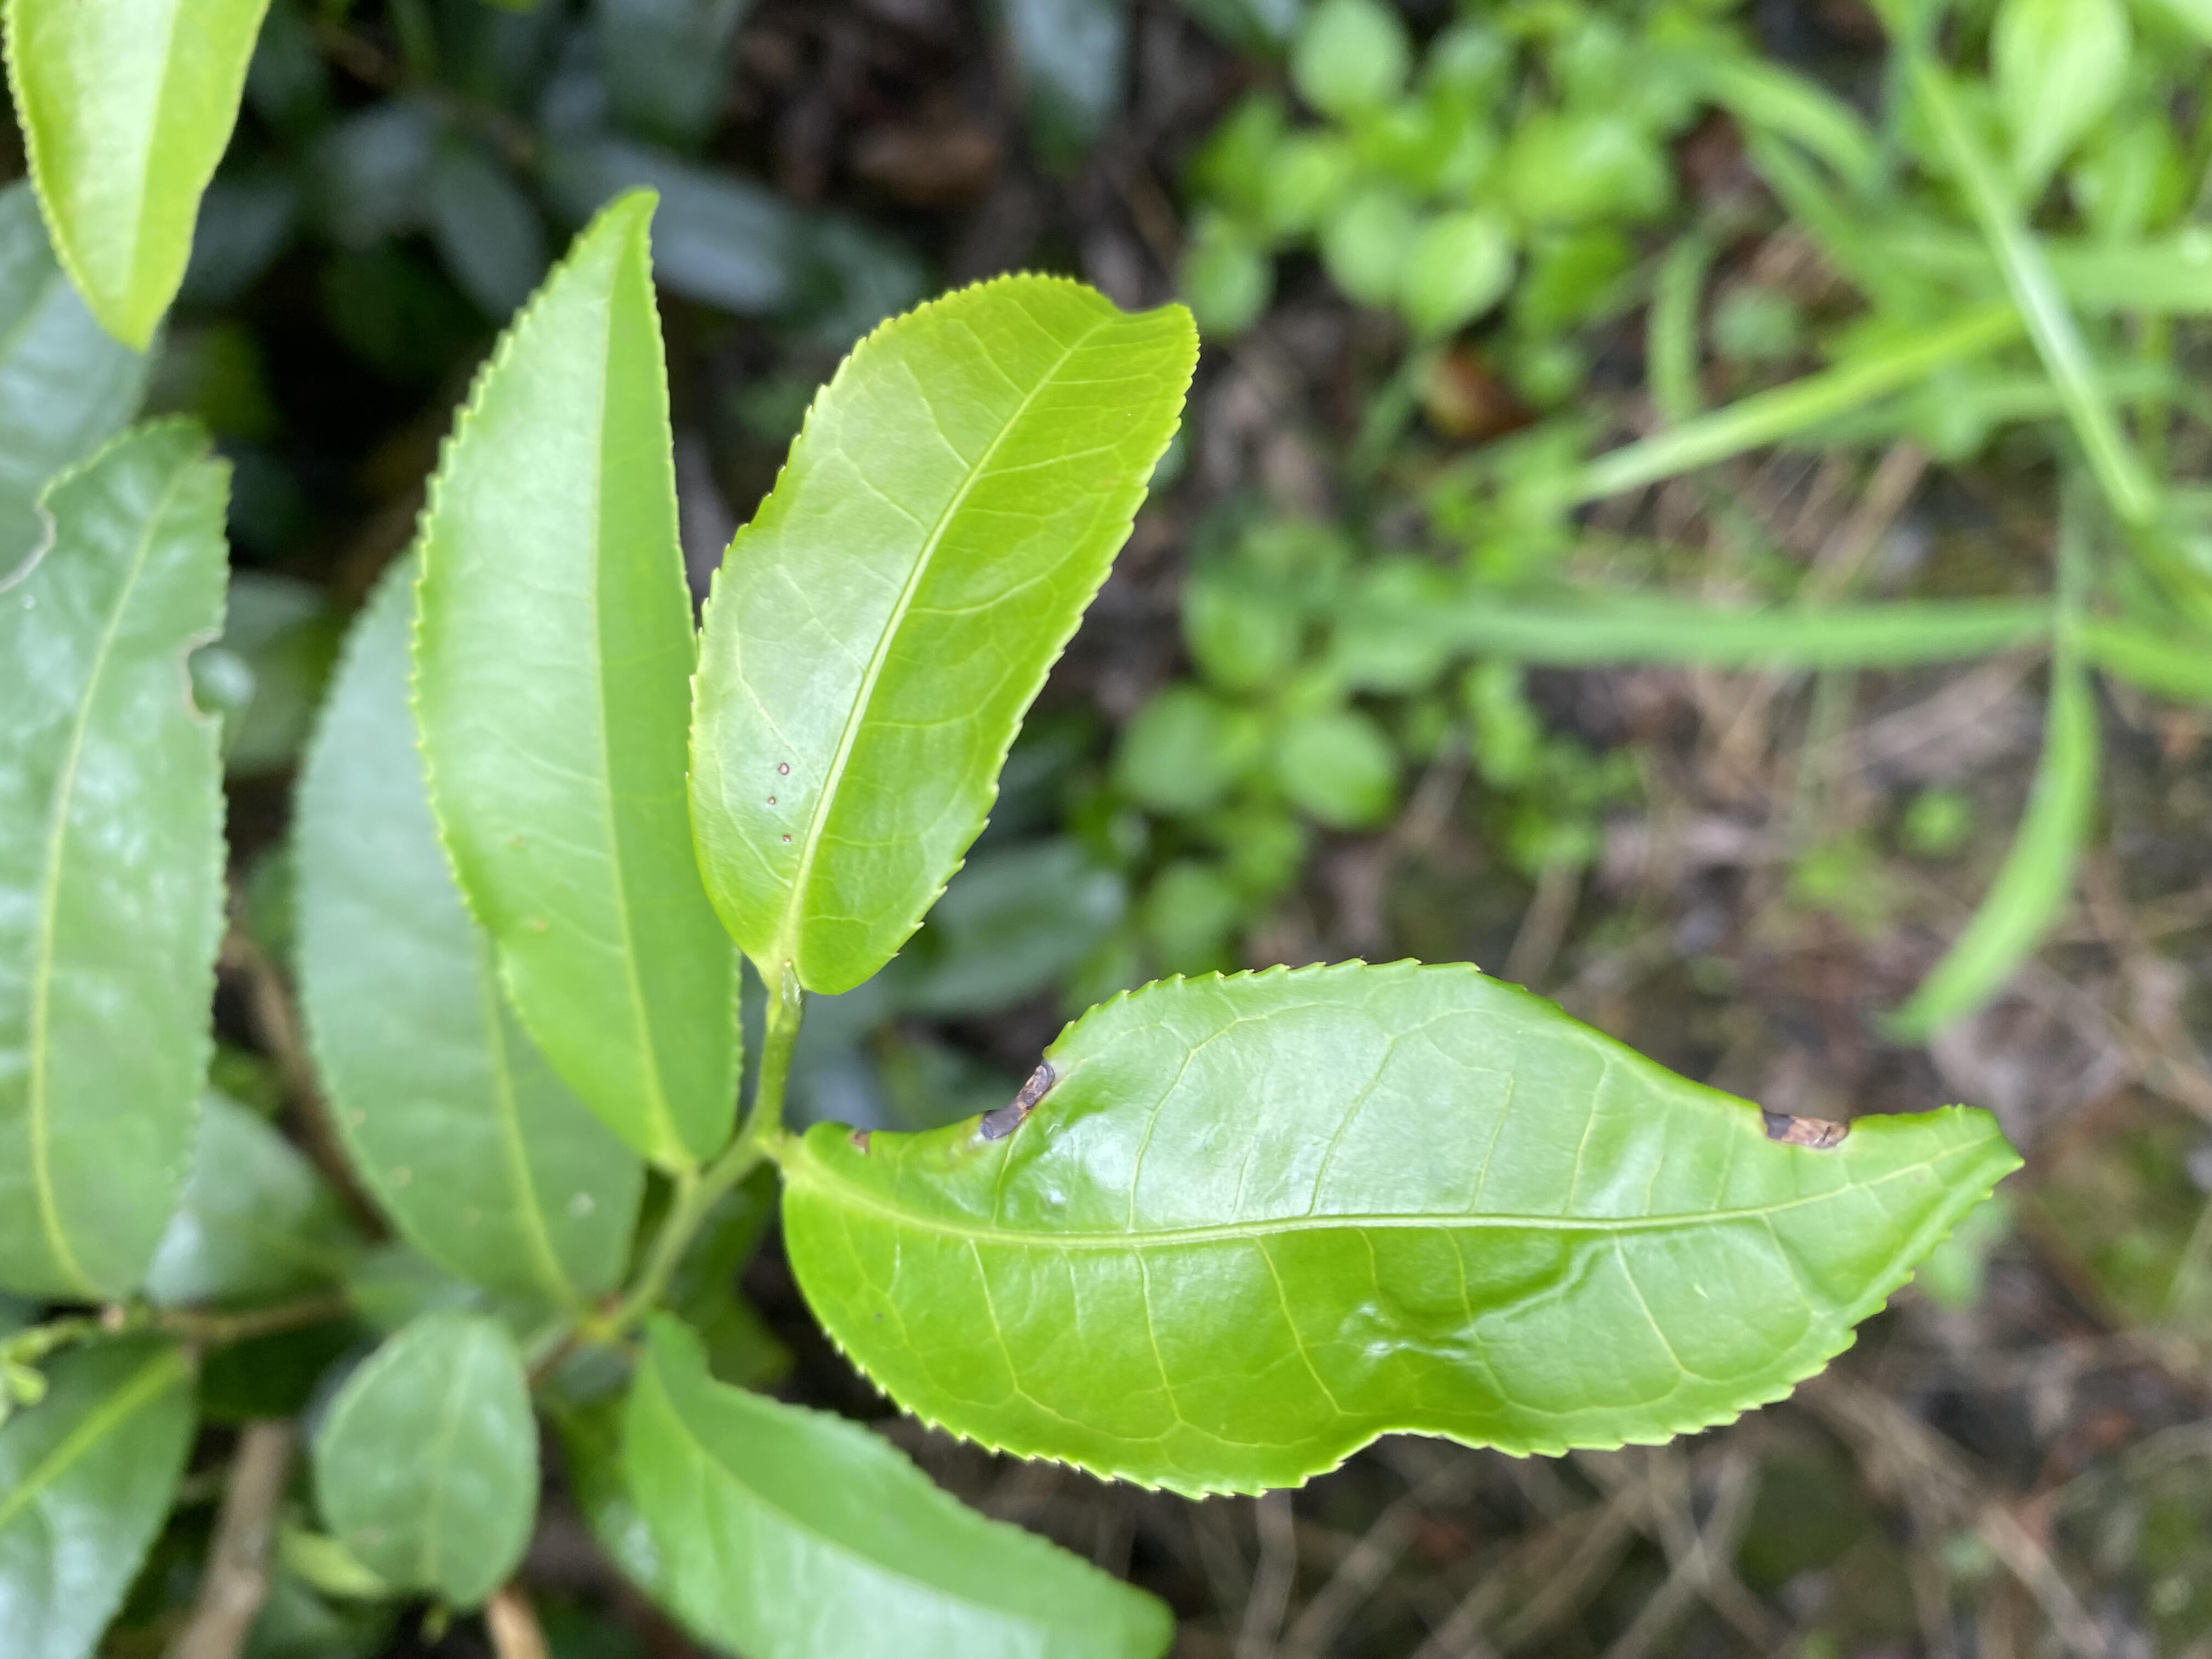chihuo_high: (3, 416, 242, 1305)
healthy: (685, 270, 1202, 1004), (413, 190, 752, 1180), (0, 2, 273, 349)
tanju_low: (772, 957, 2027, 1506)
